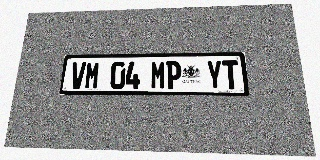0: (110, 61, 126, 89)
4: (125, 61, 141, 89)
M: (84, 62, 101, 89), (151, 61, 166, 89)
P: (166, 61, 181, 89)
T: (222, 60, 240, 89)
V: (70, 62, 86, 89)
Y: (206, 60, 223, 89)
